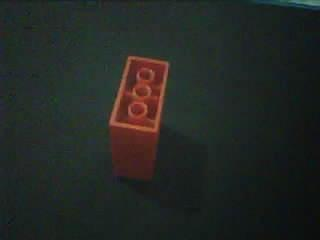lego: (106, 52, 170, 180)
